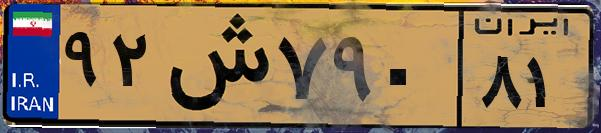0: (385, 28, 445, 110)
1: (525, 38, 570, 115)
2: (110, 28, 158, 98)
7: (270, 28, 330, 110)
8: (475, 38, 525, 113)
9: (330, 28, 385, 110), (57, 26, 110, 100)
ش: (158, 12, 270, 120)
